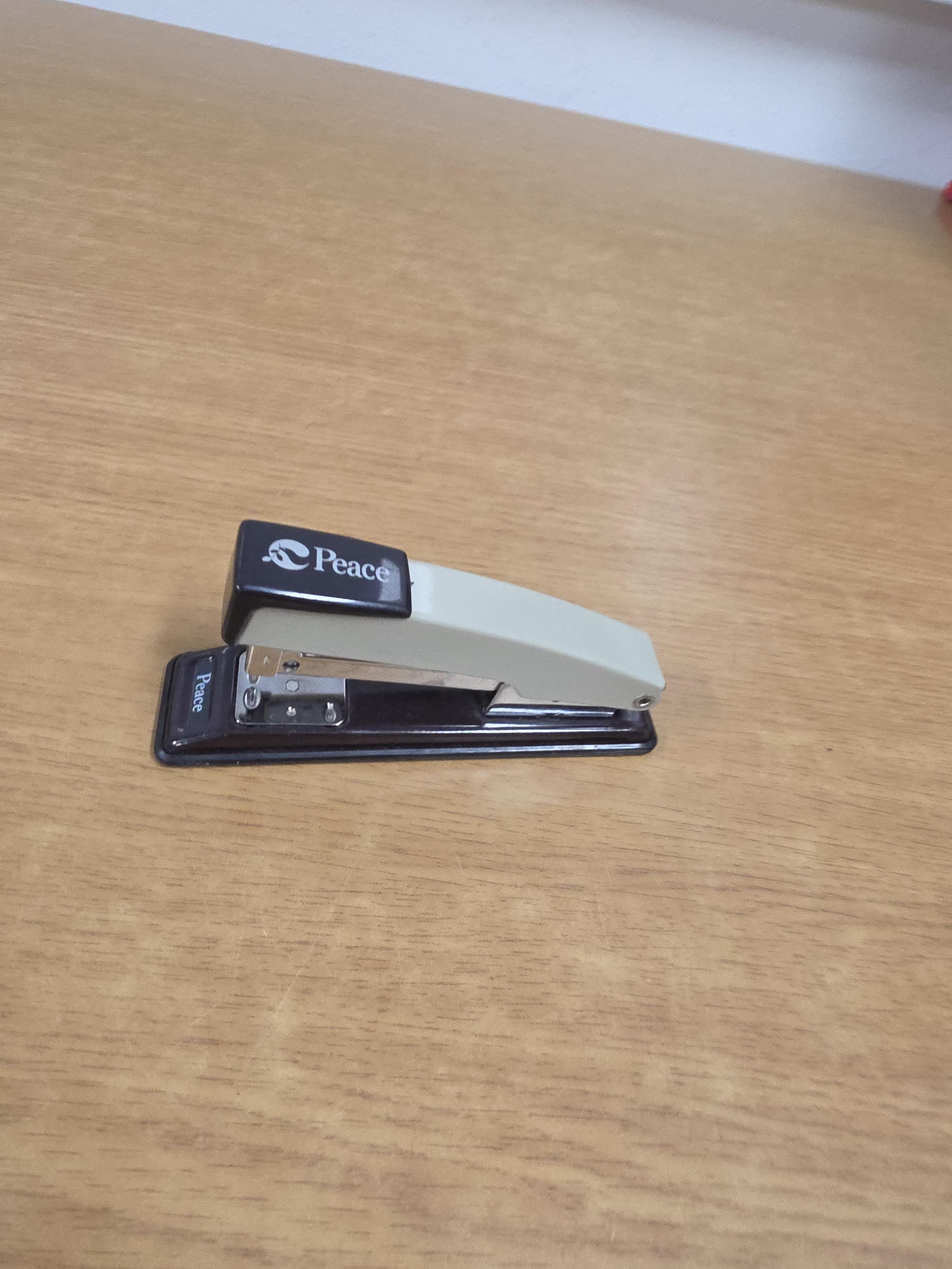stapler: (151, 518, 667, 768)
